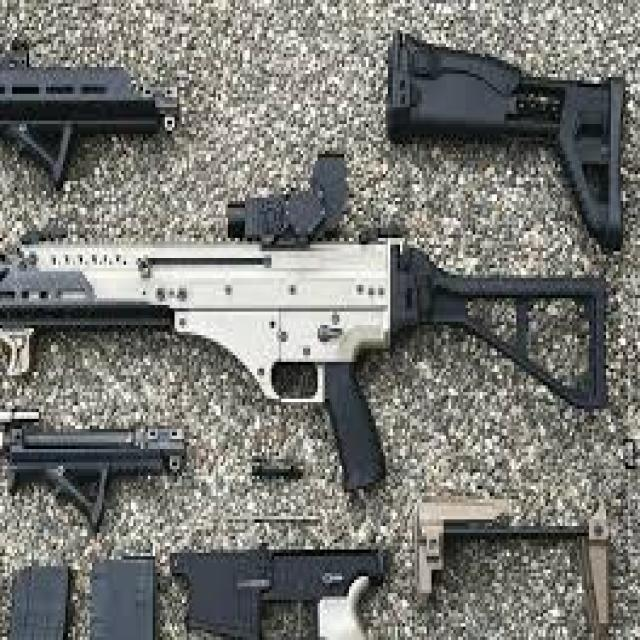Gun: (0, 173, 637, 476)
